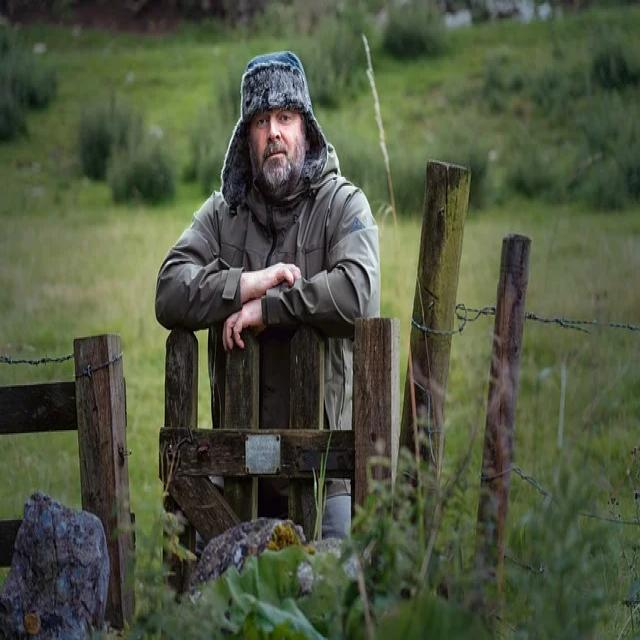Real human 2: (150, 36, 397, 566)
